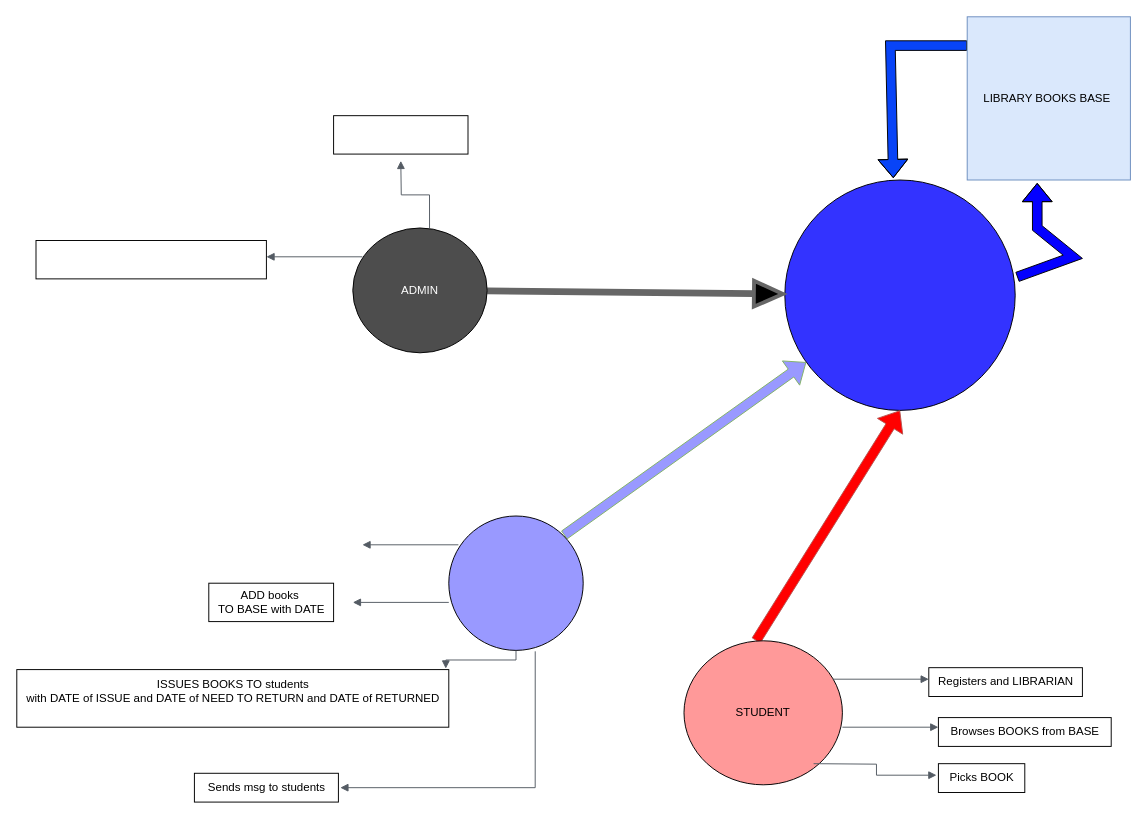
Image size: 1147x819. Some labels were removed from this diagram. The centre of each missing label's shape, as x and y in pixels:
Authorization and registration of process: the point at 150,259
LIBRARIAN: the point at 515,582
LIBRARY MANAGMENT SYSTEM: the point at 899,294
Security of application: the point at 400,134
